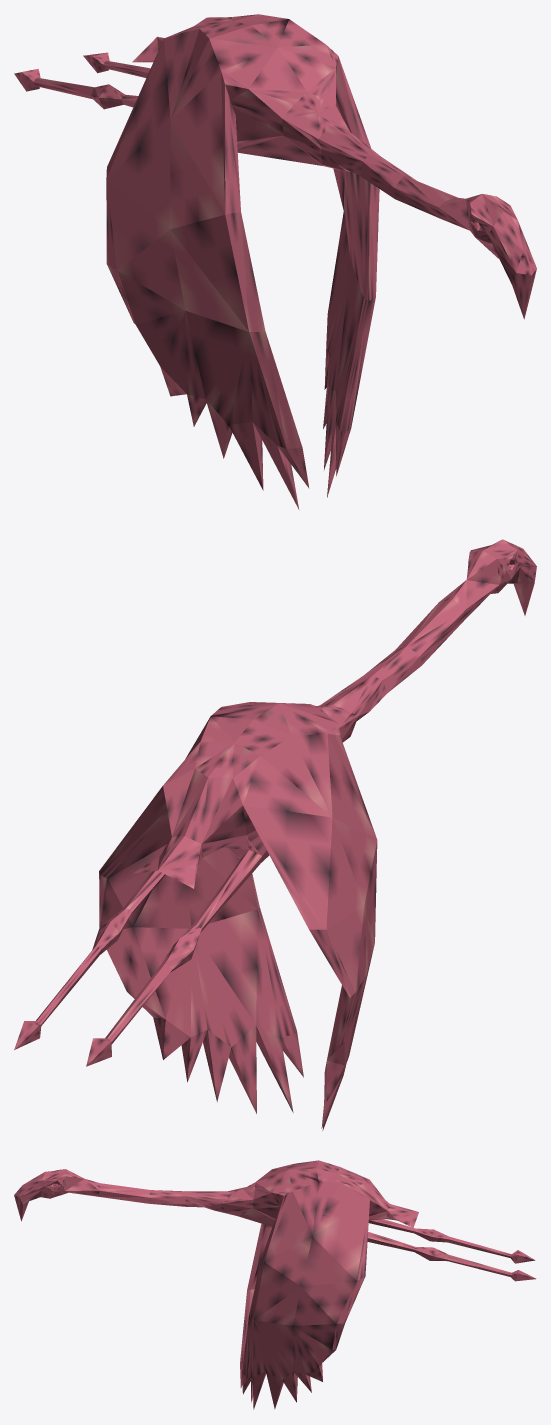
The model's file is flamingov1.glb.
The picture shows the model from 3 angles, top to bottom: view 1: azimuth 30°, elevation 25°; view 2: azimuth 150°, elevation 25°; view 3: azimuth 270°, elevation 25°; orthographic projection. The views are drawn at different scales.
Parts seen in each view (by area): view 1: Mesh_0; view 2: Mesh_0; view 3: Mesh_0.
Part boxes in pixels (left/top/right/bottom): Mesh_0: left=14, top=14, right=536, bottom=509; Mesh_0: left=14, top=539, right=536, bottom=1130; Mesh_0: left=14, top=1160, right=536, bottom=1409.
Bounding box in the file's own units: 52.2 × 89.1 × 177.
